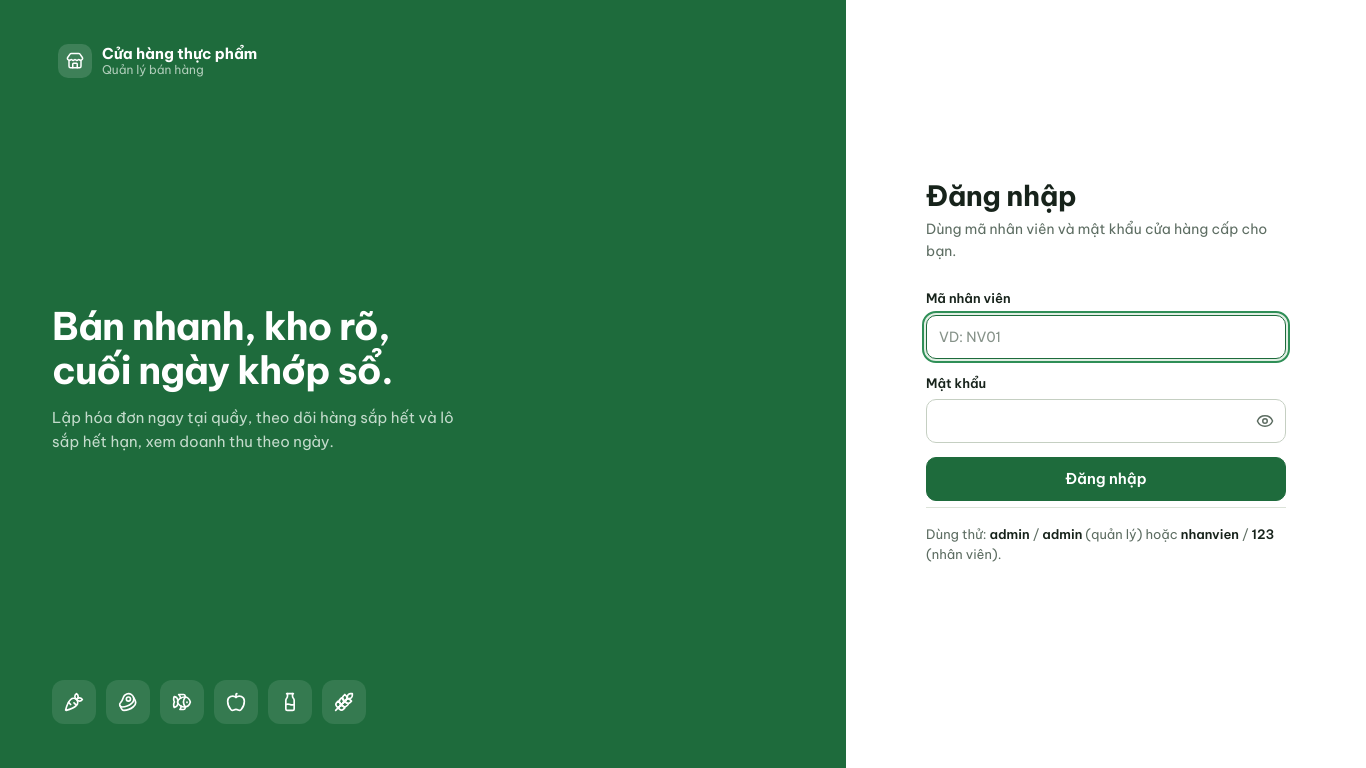
Test: App › hiện lỗi khi sai mật khẩu
In the field labelled "Mã nhân viên": (1106, 336) x1=926 y1=314 x2=1286 y2=358, type "admin"
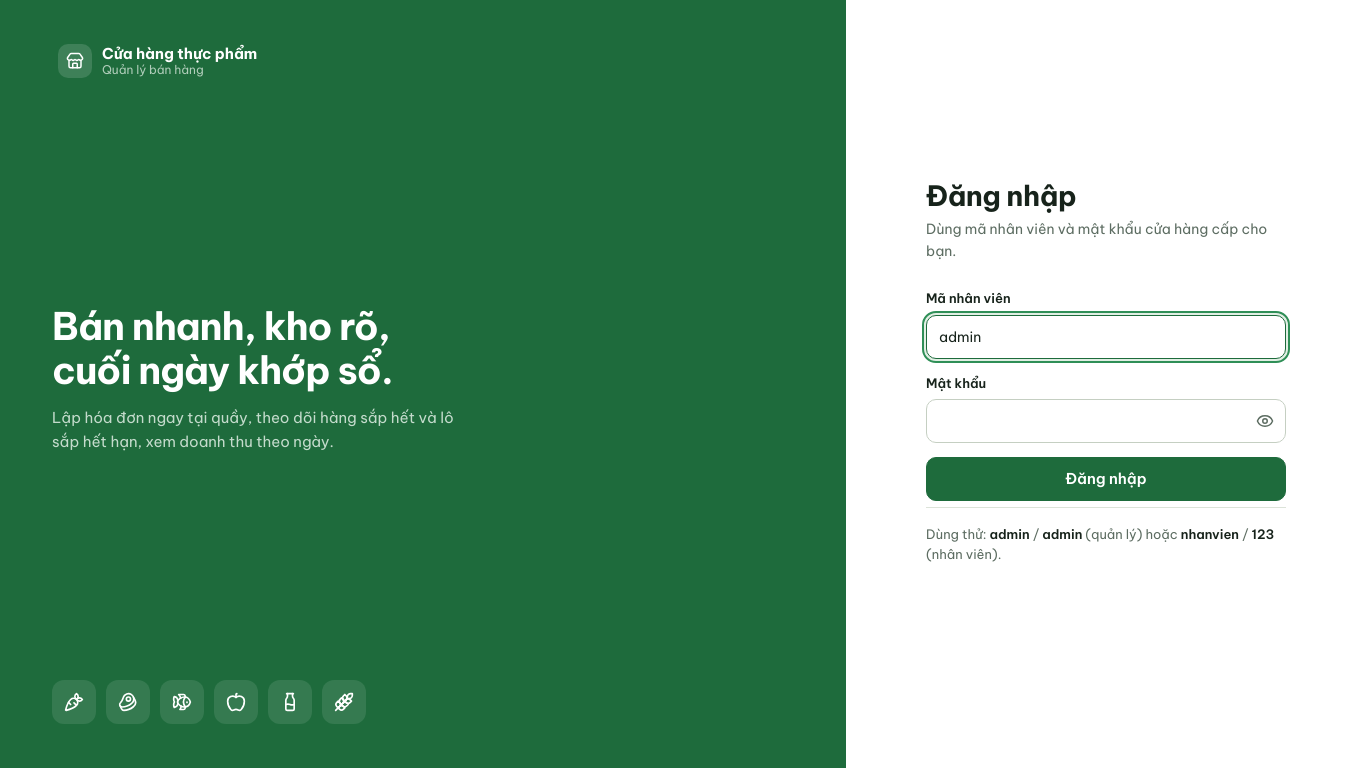
In the password field labelled "Mật khẩu": (1106, 421) x1=926 y1=399 x2=1286 y2=443, type "sai"
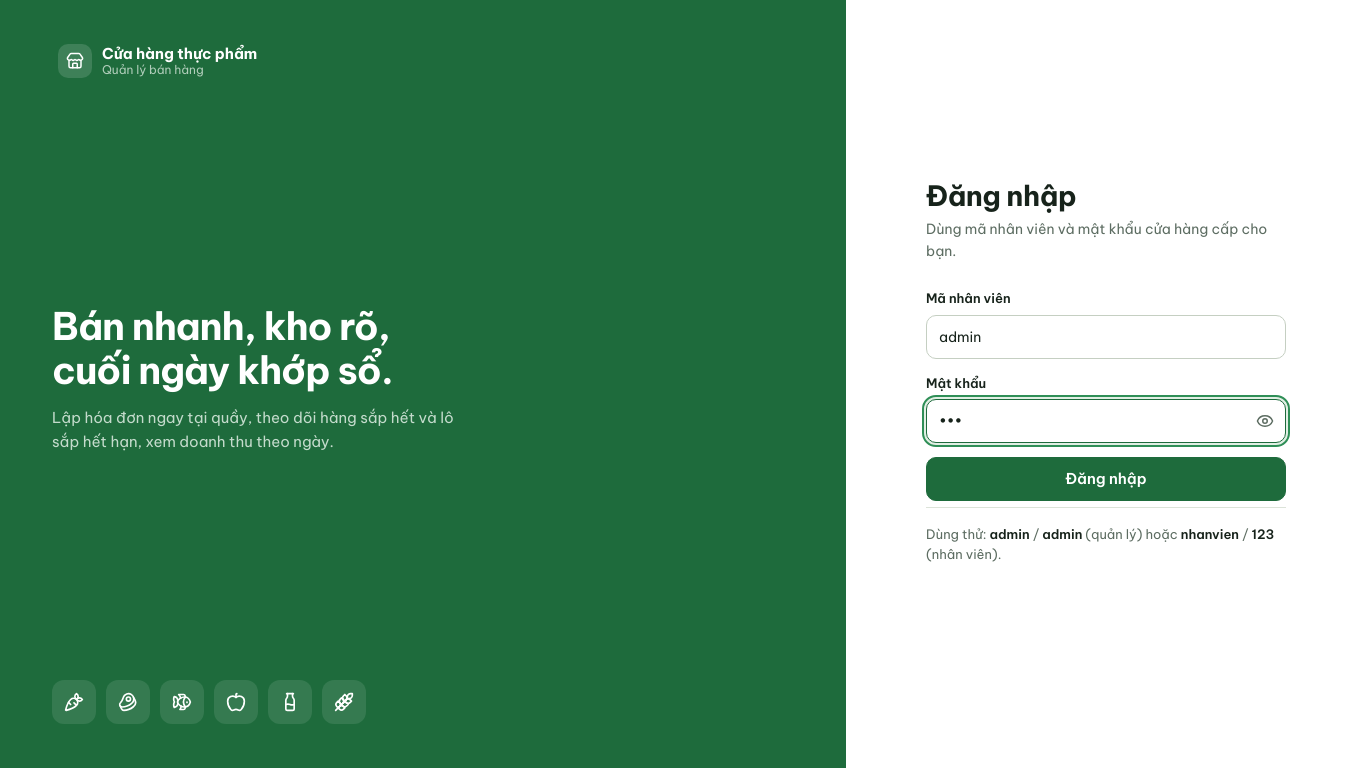
Click the button "Đăng nhập": (1106, 479) x1=926 y1=457 x2=1286 y2=501
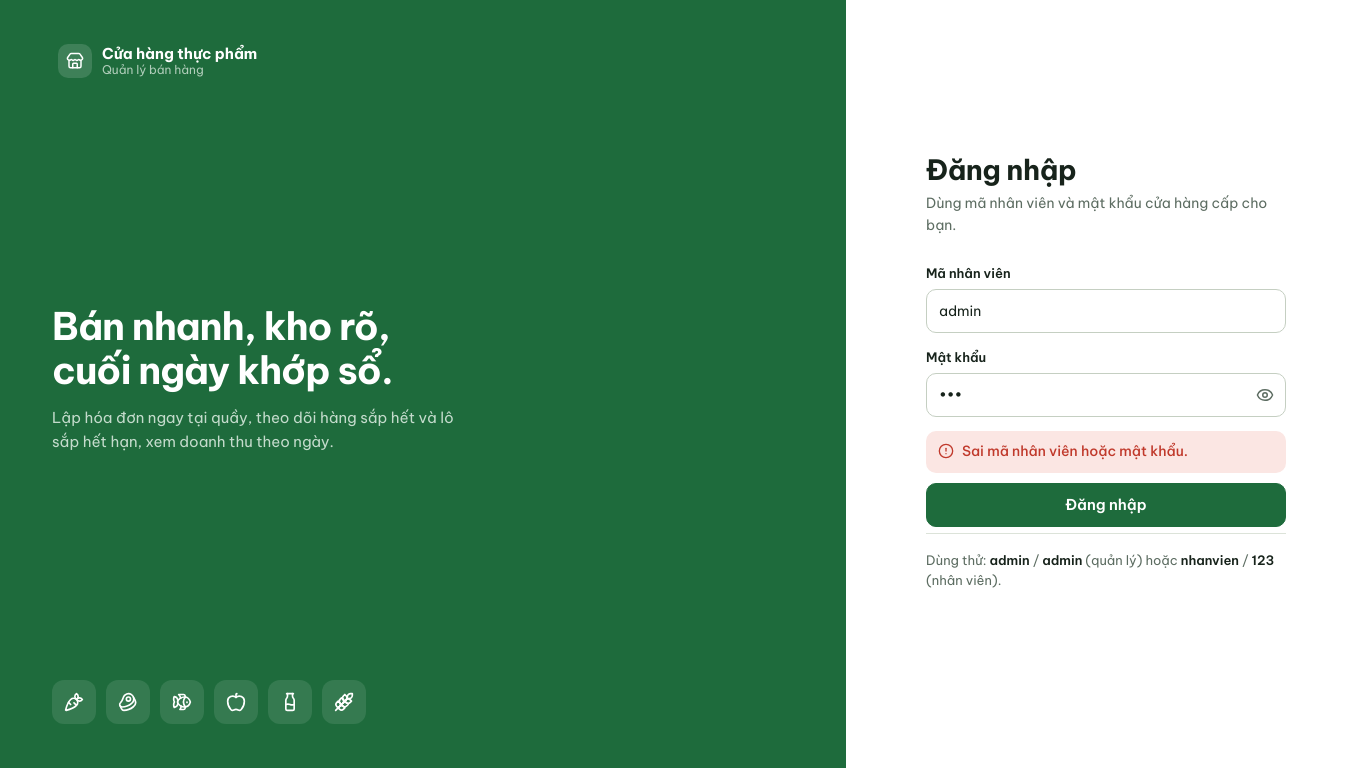
Expected: the message reads "Sai mã nhân viên hoặc mật khẩu.", x1=962 y1=442 x2=1188 y2=460
